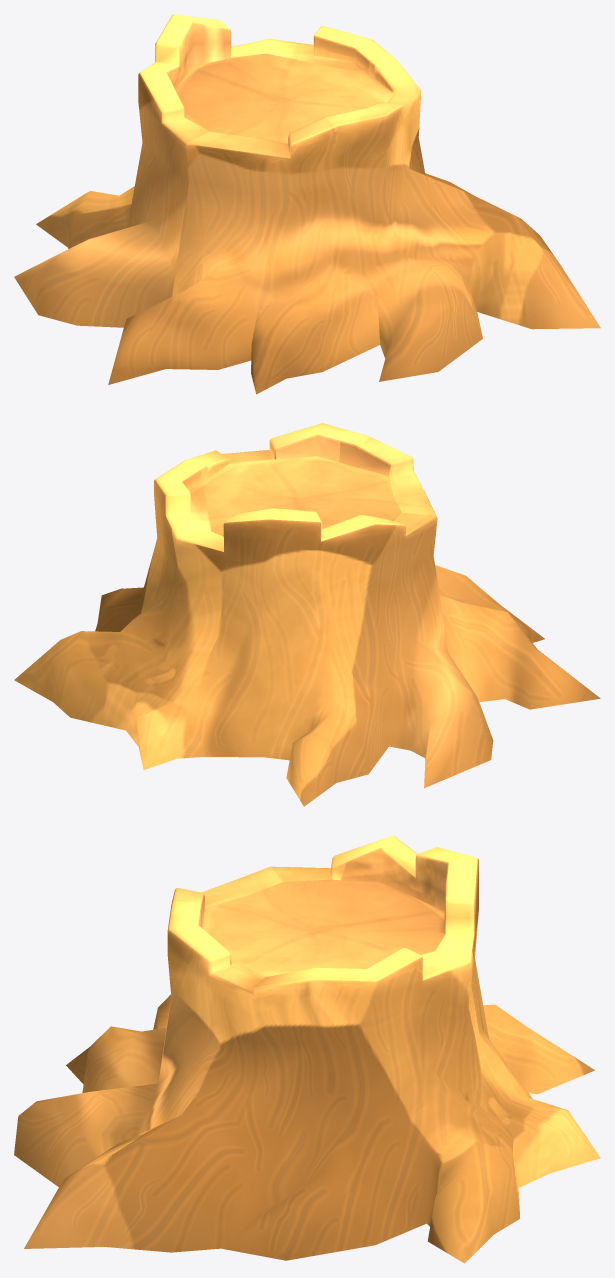
The model's file is SM_TrunkTree.fbx.
3 views of the same model, one above another, from view 1: azimuth 30°, elevation 25°; view 2: azimuth 150°, elevation 25°; view 3: azimuth 270°, elevation 25° (orthographic). The views are drawn at different scales.
Parts seen in each view (by area): view 1: SM_TrunkTree_LOD0; view 2: SM_TrunkTree_LOD0; view 3: SM_TrunkTree_LOD0.
Part boxes in pixels (x1=…): SM_TrunkTree_LOD0: x1=14, y1=14, x2=600, y2=394; SM_TrunkTree_LOD0: x1=14, y1=423, x2=600, y2=806; SM_TrunkTree_LOD0: x1=14, y1=835, x2=600, y2=1263.
Bounding box in the file's own units: 119 × 115 × 56.68.
